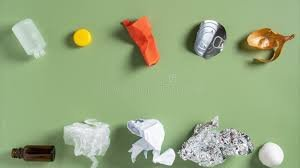cardboard: (117, 17, 168, 70)
glass: (3, 139, 59, 167)
metal: (190, 19, 228, 66)
paper: (177, 116, 254, 168), (122, 115, 175, 168)
plastic: (61, 121, 113, 168), (7, 15, 49, 66), (259, 138, 288, 168), (67, 29, 93, 49)
trash: (237, 23, 299, 73)
